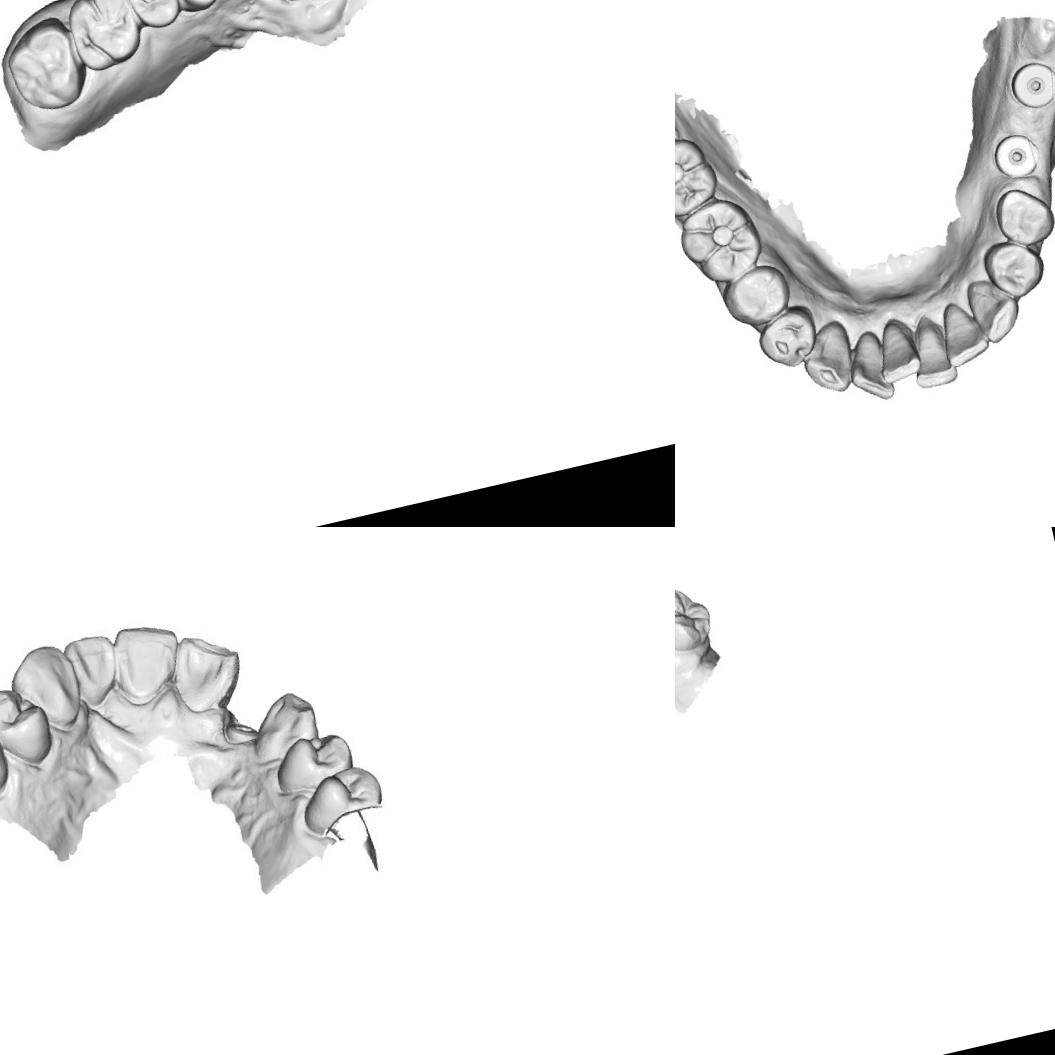canine: (2, 638, 90, 737), (241, 685, 325, 764), (796, 320, 858, 398), (961, 273, 1024, 348)
implant: (212, 708, 268, 758), (989, 130, 1042, 182), (1006, 56, 1055, 111)
incisor: (162, 623, 252, 721), (105, 616, 191, 711), (61, 629, 127, 712), (929, 292, 994, 372), (900, 316, 964, 392), (842, 330, 900, 408), (868, 314, 925, 384)
molar: (0, 11, 93, 119), (675, 192, 768, 290), (57, 0, 147, 78), (675, 131, 720, 222), (675, 577, 718, 656)
premolar: (293, 760, 389, 840), (268, 724, 358, 800), (0, 676, 59, 774), (717, 260, 793, 330), (752, 304, 822, 376), (980, 233, 1050, 305), (987, 180, 1055, 254), (122, 0, 188, 32), (167, 0, 231, 17)
